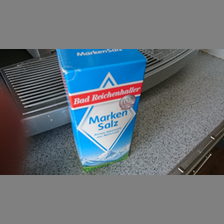spices: (55, 49, 147, 173)
